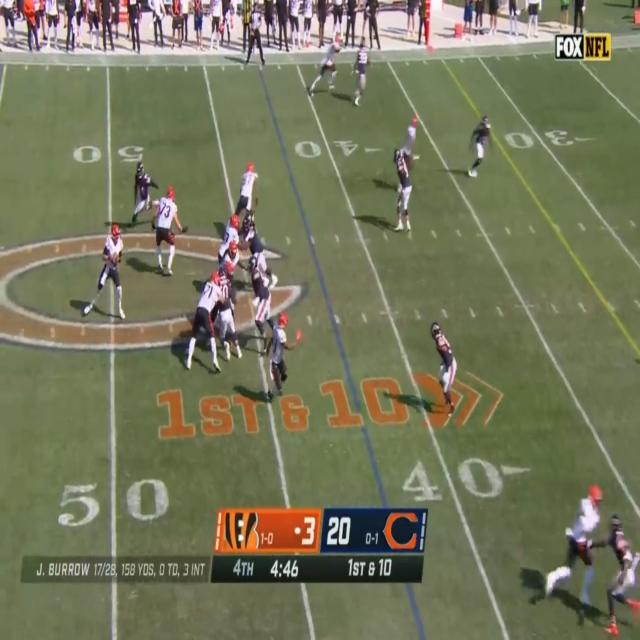Ball: (111, 252, 118, 268)
